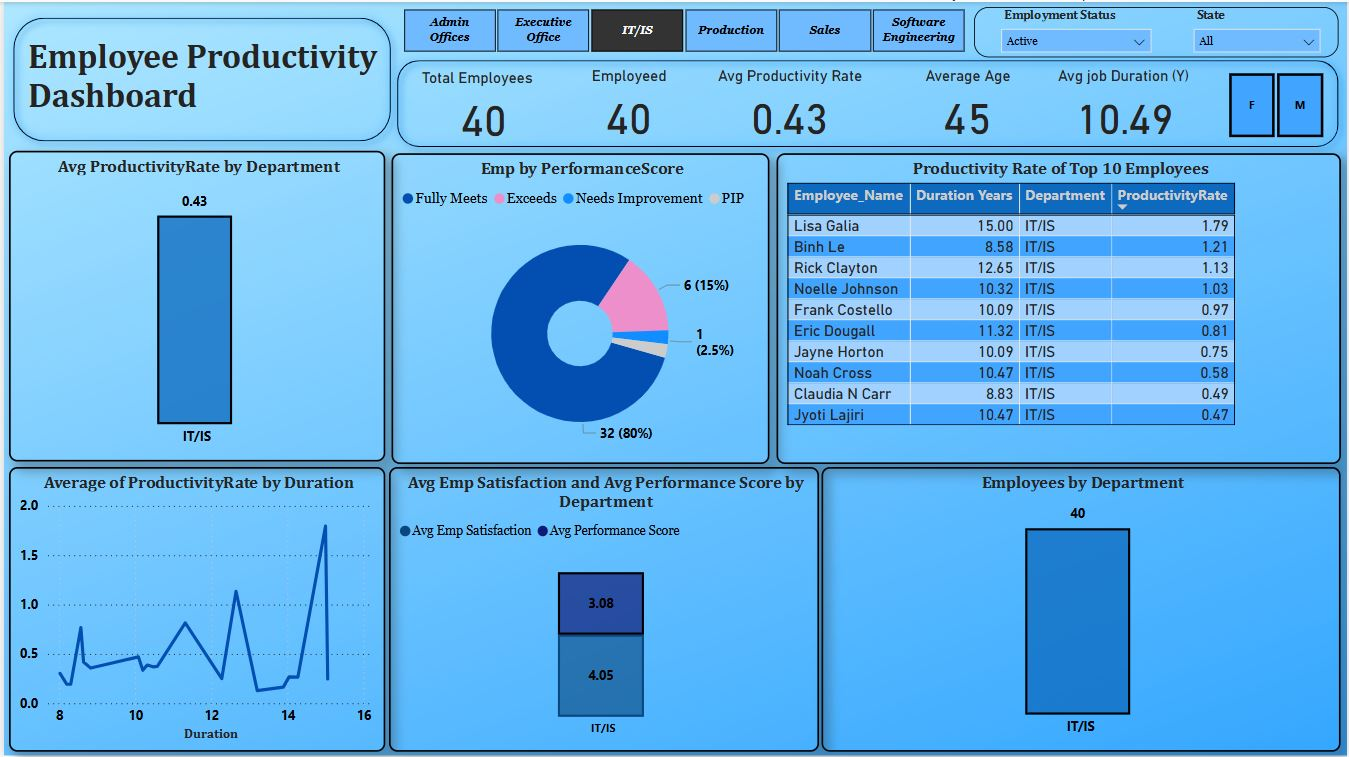

The page's visual inventory and layout, read from the dashboard file:
{"tool":"powerbi","page":{"name":"Page 1","canvas":[1280,720],"ordinal":0},"visuals":[{"type":"shape","box":[924.3,4.9,347.4,47.9],"z":0},{"type":"shape","box":[365.5,46.6,914.5,100.7],"z":1000},{"type":"card","title":"Total Employees","fields":{"Values":["CountNonNull(HR_data_week3_finalsheet.EmpID)"]},"box":[392.6,62.8,128.9,74.9],"z":2000},{"type":"card","title":"Employeed","fields":{"Values":["CountNonNull(HR_data_week3_finalsheet.DateofTermination)"]},"box":[530.5,61.6,128.9,74.9],"z":3000},{"type":"card","title":"Average Age","fields":{"Values":["Avg(HR_data_week3_finalsheet.Age)"]},"box":[853.1,61.6,128.9,74.9],"z":4000},{"type":"card","title":"Avg job Duration (Y)","fields":{"Values":["Avg(HR_data_week3_finalsheet.EmploymentDuration_Years)"]},"box":[999.2,61.6,137.5,74.9],"z":5000},{"type":"slicer","fields":{"Values":["HR_data_week3_finalsheet.Sex"]},"box":[1140.1,60.4,139.9,74.9],"z":6000},{"type":"shape","box":[0,6,377.4,135.7],"z":7000},{"type":"textbox","box":[17.9,27.4,375,101.2],"z":8000},{"type":"tableEx","title":"Productivity Rate of Top 10 Employees","fields":{"Values":["HR_data_week3_finalsheet.Employee_Name","Sum(HR_data_week3_finalsheet.EmploymentDuration_Years)","HR_data_week3_finalsheet.Department","Sum(HR_data_week3_finalsheet.ProductivityRate)"]},"box":[735.3,143.6,537.6,295.8],"z":9000},{"type":"columnChart","title":"Employees by Department","fields":{"Category":["HR_data_week3_finalsheet.Department"],"Y":["CountNonNull(HR_data_week3_finalsheet.EmpID)"]},"box":[778.2,443.1,494.7,271.3],"z":10000},{"type":"card","title":"Avg Productivity Rate","fields":{"Values":["Avg(HR_data_week3_finalsheet.ProductivityRate)"]},"box":[671.4,61.6,154.7,74.9],"z":11000},{"type":"donutChart","title":"Emp by PerformanceScore","fields":{"Y":["CountNonNull(HR_data_week3_finalsheet.EmpID)"],"Category":["HR_data_week3_finalsheet.PerformanceScore"]},"box":[369.5,143.6,359.6,295.8],"z":12000},{"type":"columnChart","title":"Avg ProductivityRate by Department","fields":{"Category":["HR_data_week3_finalsheet.Department"],"Y":["Avg(HR_data_week3_finalsheet.ProductivityRate)"]},"box":[4.9,141.2,358.4,295.8],"z":13000},{"type":"slicer","fields":{"Values":["HR_data_week3_finalsheet.Department"]},"box":[354.7,0,584.3,54],"z":14000},{"type":"slicer","title":"State","fields":{"Values":["HR_data_week3_finalsheet.State"]},"box":[1123.1,0,141.2,55.2],"z":15000},{"type":"slicer","title":"State","fields":{"Values":["HR_data_week3_finalsheet.EmploymentStatus"]},"box":[939,0,163.3,55.2],"z":16000},{"type":"lineChart","fields":{"Y":["Avg(HR_data_week3_finalsheet.ProductivityRate)"],"Category":["HR_data_week3_finalsheet.EmploymentDuration_Years"]},"box":[5,443,358,271],"z":17000},{"type":"columnChart","fields":{"Category":["HR_data_week3_finalsheet.Department"],"Y":["Avg(HR_data_week3_finalsheet.EmpSatisfaction)","Avg(HR_data_week3_finalsheet.PerformanceScoreNum)"]},"box":[366.7,442.9,409.5,271.4],"z":18000}]}

Visuals, with their boxes in screenshot pixels (x1, y1, x2, y2), scaled from the page's 1280x720 canvas onto the 1349x757 screenshot:
shape: left=974, top=5, right=1340, bottom=56
shape: left=385, top=49, right=1348, bottom=155
"Total Employees" card: left=414, top=66, right=550, bottom=145
"Employeed" card: left=559, top=65, right=695, bottom=144
"Average Age" card: left=899, top=65, right=1035, bottom=144
"Avg job Duration (Y)" card: left=1053, top=65, right=1198, bottom=144
slicer - HR_data_week3_finalsheet.Sex: left=1202, top=64, right=1348, bottom=142
shape: left=0, top=6, right=398, bottom=149
textbox: left=19, top=29, right=414, bottom=135
"Productivity Rate of Top 10 Employees" tableEx: left=775, top=151, right=1342, bottom=462
"Employees by Department" columnChart: left=820, top=466, right=1342, bottom=751
"Avg Productivity Rate" card: left=708, top=65, right=871, bottom=144
"Emp by PerformanceScore" donutChart: left=389, top=151, right=768, bottom=462
"Avg ProductivityRate by Department" columnChart: left=5, top=148, right=383, bottom=459
slicer - HR_data_week3_finalsheet.Department: left=374, top=0, right=990, bottom=57
"State" slicer: left=1184, top=0, right=1332, bottom=58
"State" slicer: left=990, top=0, right=1162, bottom=58
lineChart - Avg(HR_data_week3_finalsheet.ProductivityRate) x HR_data_week3_finalsheet.EmploymentDuration_Years: left=5, top=466, right=383, bottom=751
columnChart - HR_data_week3_finalsheet.Department x Avg(HR_data_week3_finalsheet.EmpSatisfaction): left=386, top=466, right=818, bottom=751
